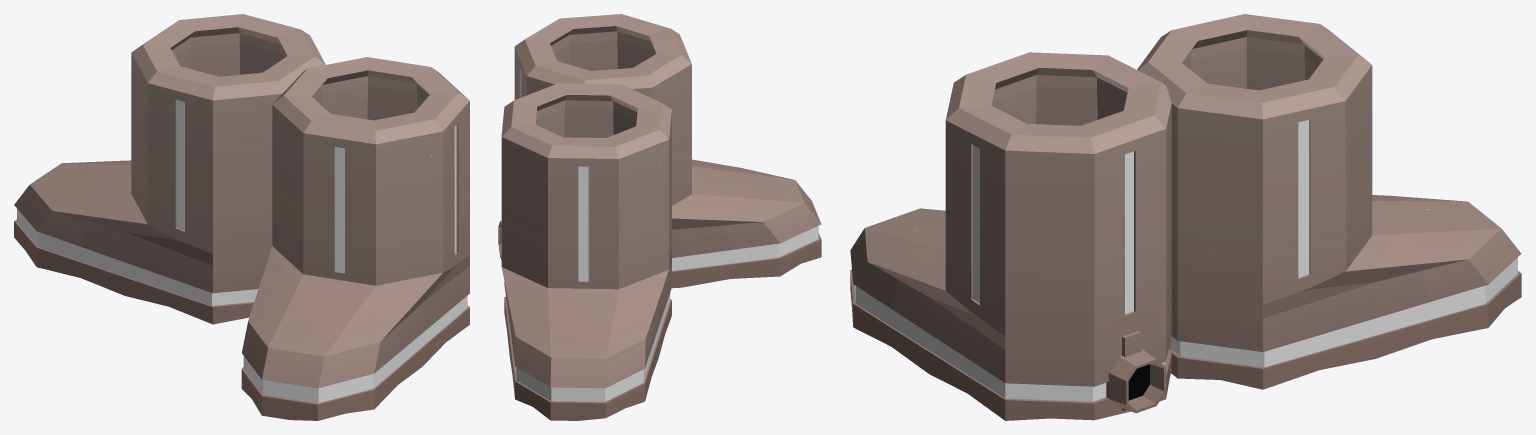
File: boots.fbx
3 renders of one model, left to right at view 1: azimuth 30°, elevation 25°; view 2: azimuth 150°, elevation 25°; view 3: azimuth 270°, elevation 25°, orthographic. The views are drawn at different scales.
Visible parts, largest first — view 1: Cube.002, Cube.001; view 2: Cube.001, Cube.002; view 3: Cube.002, Cube.001.
Part boxes in pixels (x1=…): Cube.002: x1=241, y1=57, x2=469, y2=420; Cube.001: x1=14, y1=14, x2=325, y2=324; Cube.001: x1=501, y1=83, x2=671, y2=420; Cube.002: x1=498, y1=14, x2=821, y2=288; Cube.002: x1=850, y1=52, x2=1171, y2=420; Cube.001: x1=1137, y1=14, x2=1521, y2=389.
Size of the model in its own units: 292 by 235 by 510.
